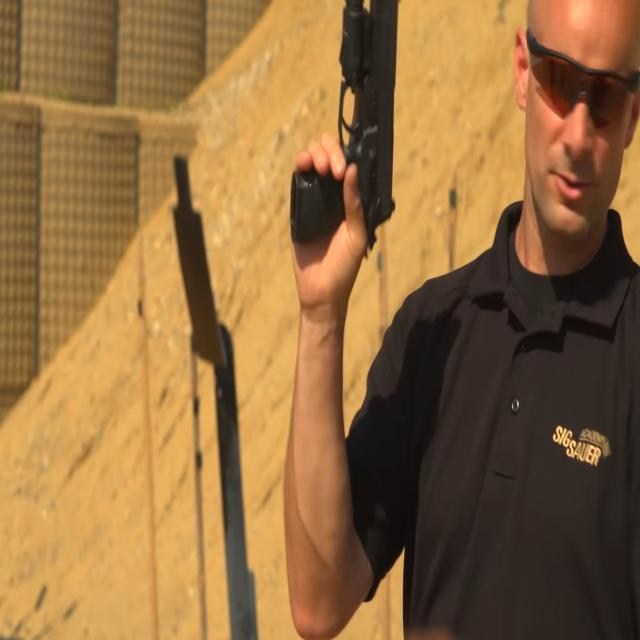Gun_Holder: (286, 0, 407, 280)
Person: (294, 0, 640, 640)
